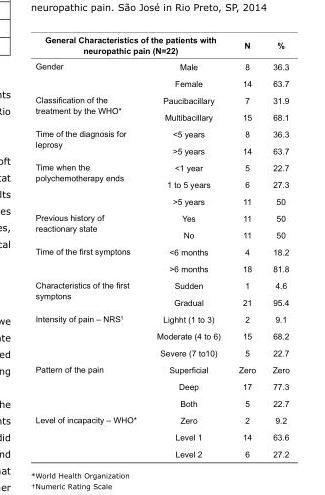table: (34, 34, 288, 458)
table column: (34, 34, 146, 458), (146, 34, 228, 458), (228, 34, 263, 458), (263, 34, 288, 458)
table row: (34, 34, 288, 57), (34, 124, 288, 142), (34, 57, 288, 74), (34, 74, 288, 91), (34, 91, 288, 108), (34, 158, 288, 175), (34, 175, 288, 192), (34, 192, 288, 209), (34, 209, 288, 226), (34, 242, 288, 259), (34, 259, 288, 276), (34, 276, 288, 293), (34, 293, 288, 310), (34, 310, 288, 327), (34, 327, 288, 344), (34, 360, 288, 377), (34, 377, 288, 394), (34, 394, 288, 411), (34, 411, 288, 428), (34, 428, 288, 445), (34, 108, 288, 124), (34, 142, 288, 158), (34, 226, 288, 242), (34, 344, 288, 360), (34, 445, 288, 458)
table spanning cell: (34, 158, 146, 209), (34, 360, 146, 411), (34, 310, 146, 360), (34, 411, 146, 458), (34, 34, 228, 57), (34, 57, 146, 91), (34, 124, 146, 158), (34, 242, 146, 276), (34, 276, 146, 310), (34, 91, 146, 124), (34, 209, 146, 242)
